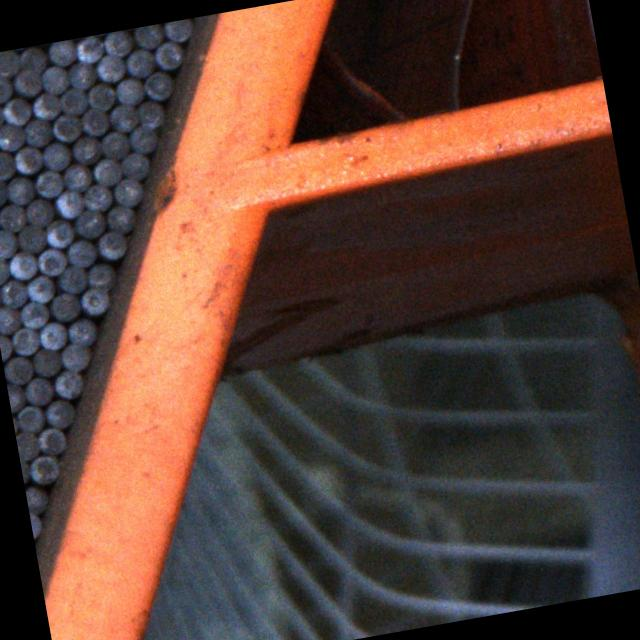tool: (125, 122, 158, 156), (55, 262, 88, 296), (56, 341, 92, 372), (110, 176, 144, 208), (15, 222, 48, 254), (49, 290, 81, 323), (117, 150, 149, 182), (95, 228, 127, 260), (26, 453, 58, 485), (93, 52, 125, 84), (66, 59, 98, 91), (38, 64, 70, 96), (20, 116, 52, 148), (70, 133, 102, 165), (98, 129, 130, 161), (90, 156, 122, 188), (80, 182, 112, 214), (28, 346, 60, 378), (140, 70, 173, 101), (42, 398, 74, 429), (34, 425, 66, 456), (3, 174, 34, 206), (32, 168, 64, 199), (60, 162, 91, 194), (18, 299, 50, 330), (151, 40, 184, 70), (49, 114, 82, 144), (36, 319, 66, 352), (131, 23, 165, 52), (9, 325, 40, 356), (13, 402, 44, 433), (52, 370, 84, 400), (124, 48, 154, 80), (52, 188, 84, 218), (2, 354, 32, 386), (22, 375, 52, 407), (104, 204, 135, 234), (78, 286, 109, 316), (73, 34, 104, 64), (114, 76, 145, 106), (43, 218, 74, 248), (74, 208, 105, 238), (65, 238, 96, 268), (35, 246, 66, 276), (6, 250, 37, 280), (24, 274, 55, 304), (56, 86, 88, 115), (85, 260, 115, 290), (66, 316, 96, 346), (11, 67, 41, 97), (108, 102, 138, 132), (22, 198, 52, 228), (101, 29, 132, 58), (18, 44, 46, 76), (134, 100, 163, 130), (30, 91, 60, 120), (86, 82, 116, 111), (80, 106, 109, 136), (11, 145, 41, 174), (39, 142, 70, 170), (46, 39, 76, 67), (2, 96, 30, 126), (0, 278, 27, 309), (0, 202, 25, 232), (0, 120, 24, 151), (162, 18, 192, 42), (14, 430, 38, 460), (0, 304, 21, 336), (25, 485, 48, 514), (0, 49, 20, 79), (6, 382, 26, 412), (0, 228, 18, 260), (0, 151, 14, 180), (0, 72, 12, 103), (0, 332, 11, 359), (0, 255, 9, 285), (0, 176, 7, 208)
